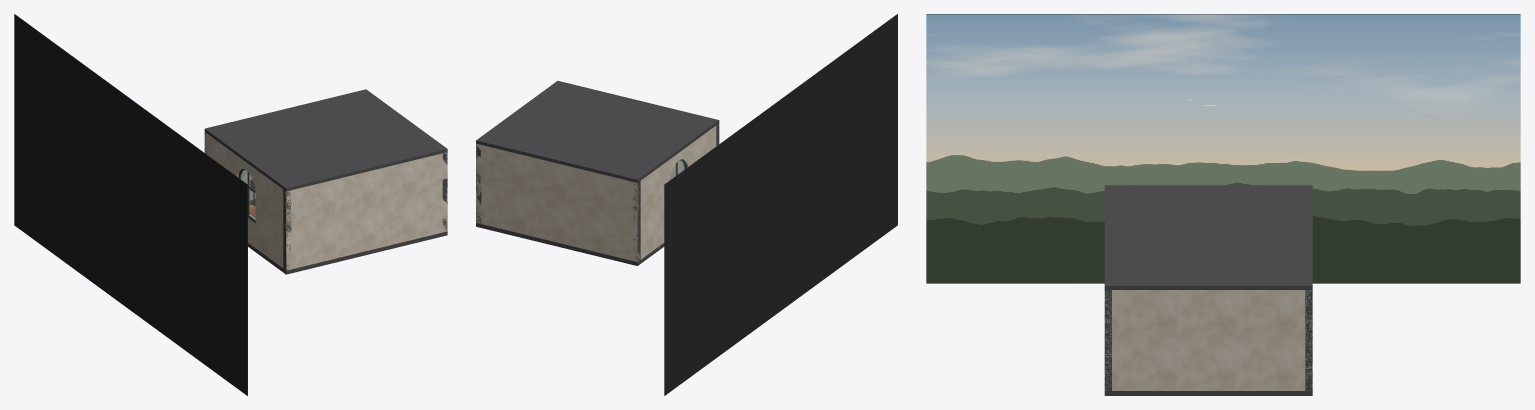
Rendered from 4SA1_Claude_Interier_v01.glb.
3 renders of one model, left to right at view 1: azimuth 30°, elevation 25°; view 2: azimuth 150°, elevation 25°; view 3: azimuth 270°, elevation 25°, orthographic. The views are drawn at different scales.
Parts seen in each view (by area): view 1: ENV_Backdrop, ARCH_Ceiling, ARCH_Wall_Front, ARCH_Wall_Left, ARCH_Floor; view 2: ENV_Backdrop, ARCH_Ceiling, ARCH_Wall_Back, ARCH_Wall_Left, ARCH_Floor; view 3: ENV_Backdrop, ARCH_Ceiling, ARCH_Wall_Right, ARCH_Floor, ARCH_Wall_Back, ARCH_Wall_Front.
Boxes of the visible parts, <box> form: ENV_Backdrop: <box>14,14,247,395</box>; ARCH_Ceiling: <box>204,89,447,191</box>; ARCH_Wall_Front: <box>283,152,447,270</box>; ARCH_Wall_Left: <box>204,132,291,270</box>; ARCH_Floor: <box>248,204,447,274</box>; ENV_Backdrop: <box>664,14,897,395</box>; ARCH_Ceiling: <box>476,81,719,182</box>; ARCH_Wall_Back: <box>476,143,640,261</box>; ARCH_Wall_Left: <box>632,125,716,261</box>; ARCH_Floor: <box>476,223,664,265</box>; ENV_Backdrop: <box>926,14,1520,283</box>; ARCH_Ceiling: <box>1104,185,1312,289</box>; ARCH_Wall_Right: <box>1104,290,1312,390</box>; ARCH_Floor: <box>1104,391,1312,395</box>; ARCH_Wall_Back: <box>1305,290,1312,390</box>; ARCH_Wall_Front: <box>1104,290,1111,390</box>.
Bounding box in the file's own units: 10.71 × 8 × 16.
49 materials, 35 textured.
